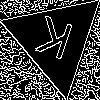K: (30, 15, 76, 70)
